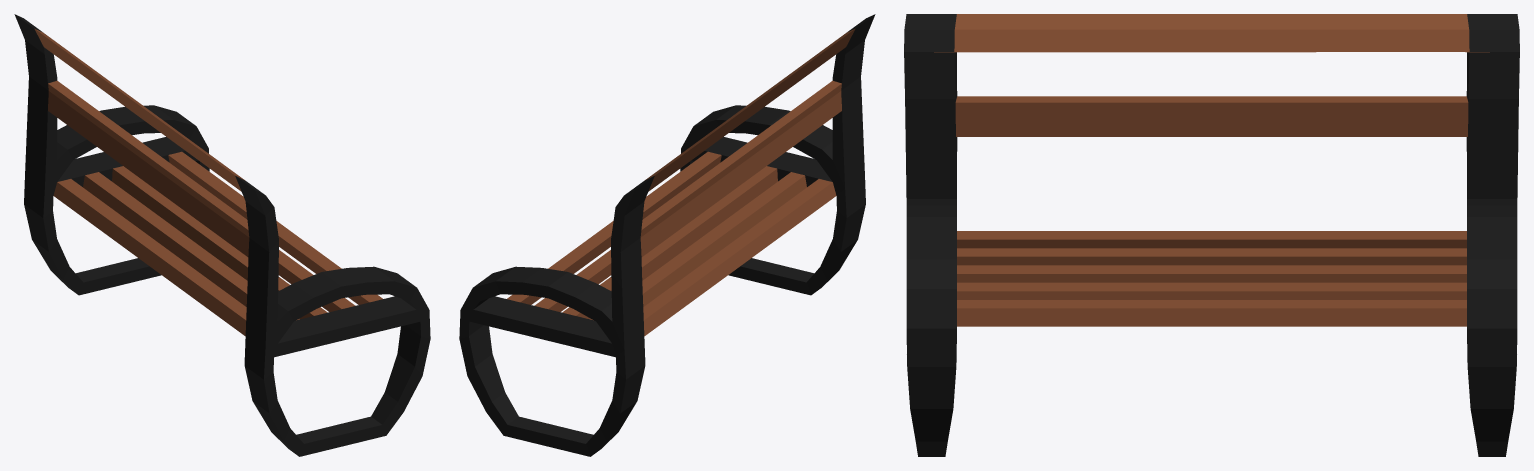
File: Env_KursiMalioboro_01a.fbx
3 renders of one model, left to right at view 1: azimuth 30°, elevation 25°; view 2: azimuth 150°, elevation 25°; view 3: azimuth 270°, elevation 25°, orthographic. The views are drawn at different scales.
Visible parts, largest first — view 1: Kursi; view 2: Kursi; view 3: Kursi.
Part boxes in pixels (<box>): Kursi: <box>14,14,430,456</box>; Kursi: <box>459,14,875,456</box>; Kursi: <box>904,14,1519,456</box>.
Bounding box in the file's own units: 40.65 × 62.32 × 97.
